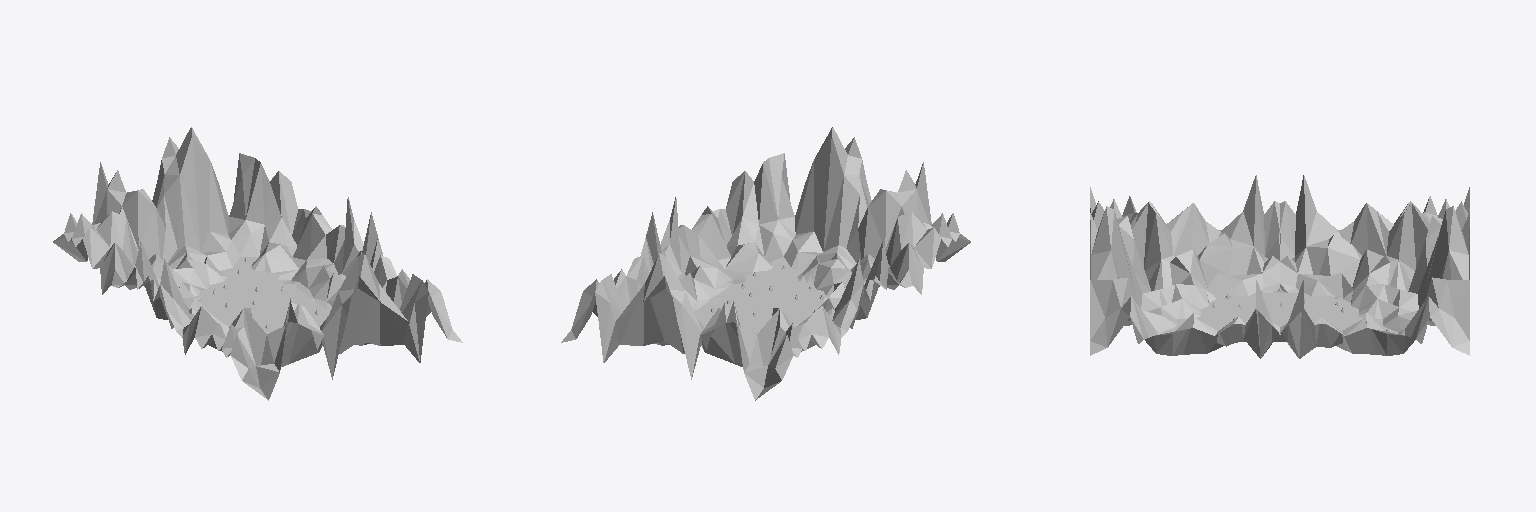
Rendered from map.obj.obj.
3 views of the same model, side by side, from view 1: azimuth 30°, elevation 25°; view 2: azimuth 150°, elevation 25°; view 3: azimuth 270°, elevation 25° (orthographic).
Parts seen in each view (by area): view 1: Terrain_Plane.001, Terrain_Plane.002; view 2: Terrain_Plane.002, Terrain_Plane.001; view 3: Terrain_Plane.001, Terrain_Plane.002.
Boxes of the visible parts, x1=… form: Terrain_Plane.001: x1=53, y1=127, x2=363, y2=320; Terrain_Plane.002: x1=150, y1=212, x2=462, y2=400; Terrain_Plane.002: x1=660, y1=127, x2=970, y2=320; Terrain_Plane.001: x1=561, y1=212, x2=873, y2=400; Terrain_Plane.001: x1=1279, y1=175, x2=1469, y2=358; Terrain_Plane.002: x1=1090, y1=175, x2=1280, y2=358.
Bounding box in the file's own units: 307 × 159 × 450.